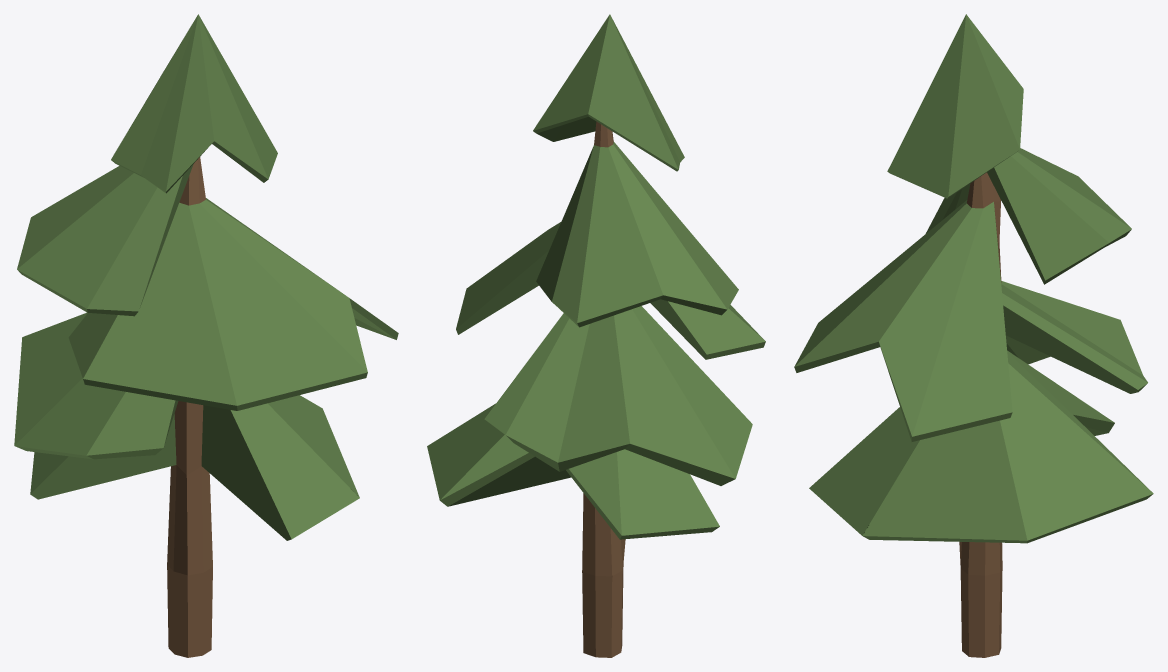
Rendered from tree_basic.fbx.
The picture shows the model from 3 angles, left to right: view 1: azimuth 30°, elevation 25°; view 2: azimuth 150°, elevation 25°; view 3: azimuth 270°, elevation 25°; orthographic projection.
Visible parts, largest first — view 1: tree_basic; view 2: tree_basic; view 3: tree_basic.
Boxes of the visible parts, box(x1,y1,x2,y2) form: tree_basic: box(14, 14, 398, 657); tree_basic: box(427, 14, 765, 657); tree_basic: box(794, 14, 1153, 657).
Size of the model in its own units: 1.12 by 2.08 by 1.07.
